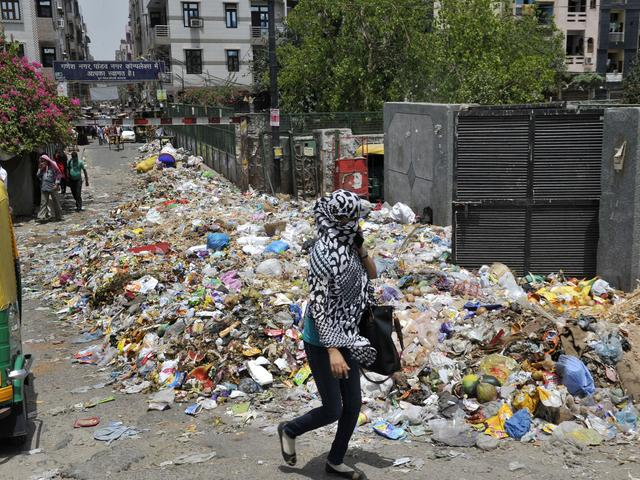garbage: (101, 203, 285, 379), (412, 275, 623, 415)
